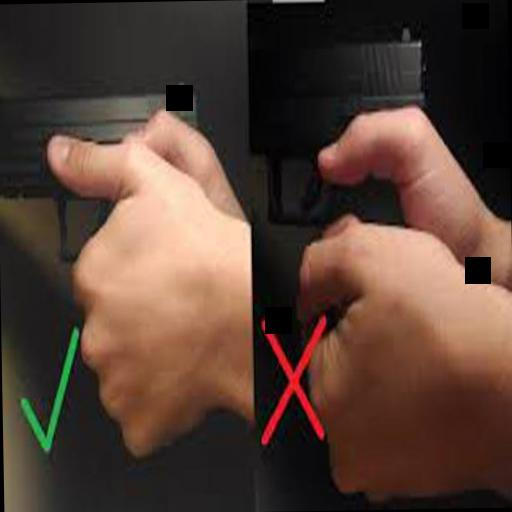Handgun: (243, 14, 434, 258), (0, 70, 200, 271)
